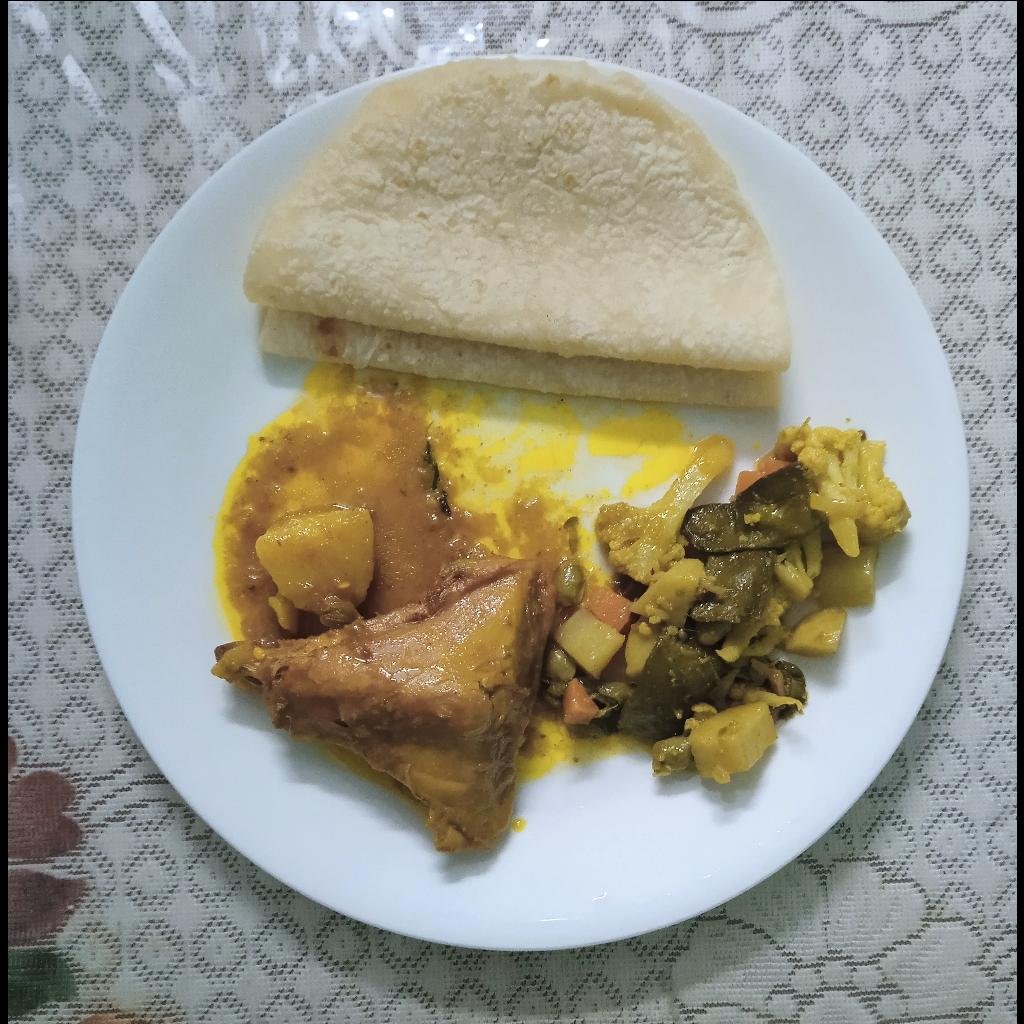chicken: (209, 559, 574, 857)
potato: (251, 505, 372, 622)
ruti: (234, 54, 787, 408)
vegetable: (566, 415, 902, 789)
